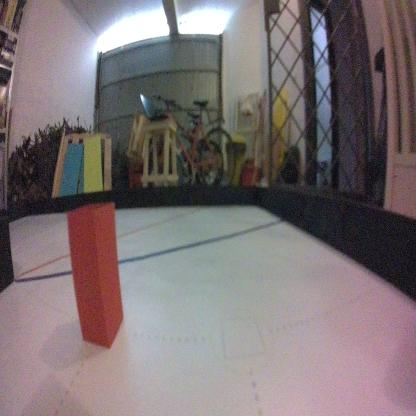red: (66, 199, 127, 352)
